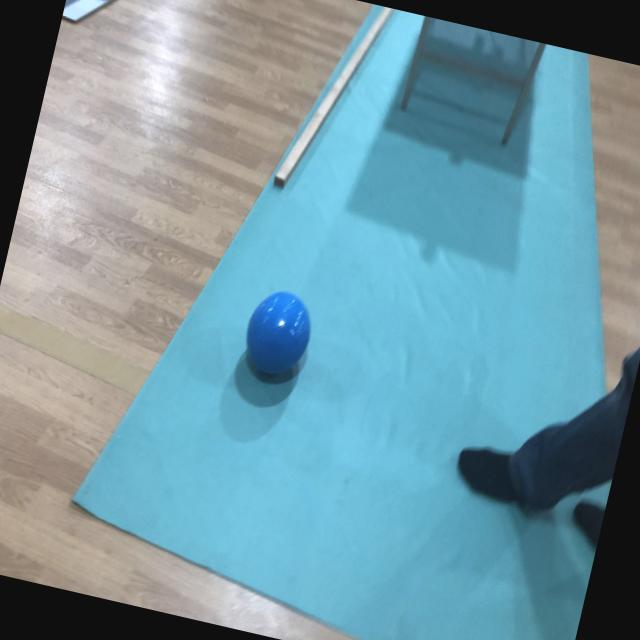blue_ball: (236, 288, 315, 382)
